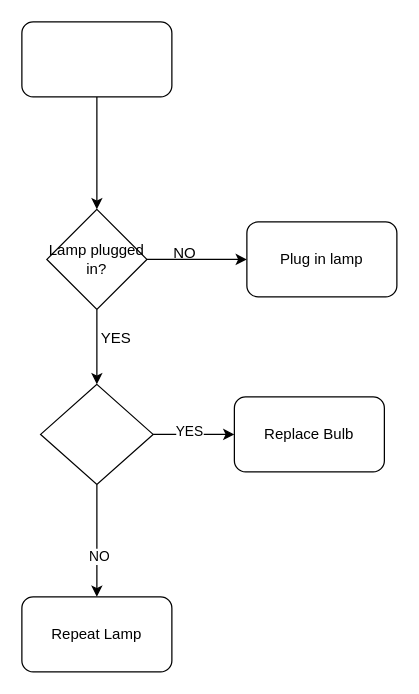
The diagram is 419 pixels wide and 694 high, and some of its shapes have lost their labels. The shapes that lost their labels are listed below. From the top down, each one's centre as x and y in pixels, then its label:
the point at 96,59: Lamp dosent work
the point at 96,433: Bulb burned out?
